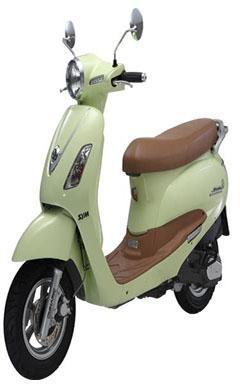motorcycle: (0, 7, 237, 382)
